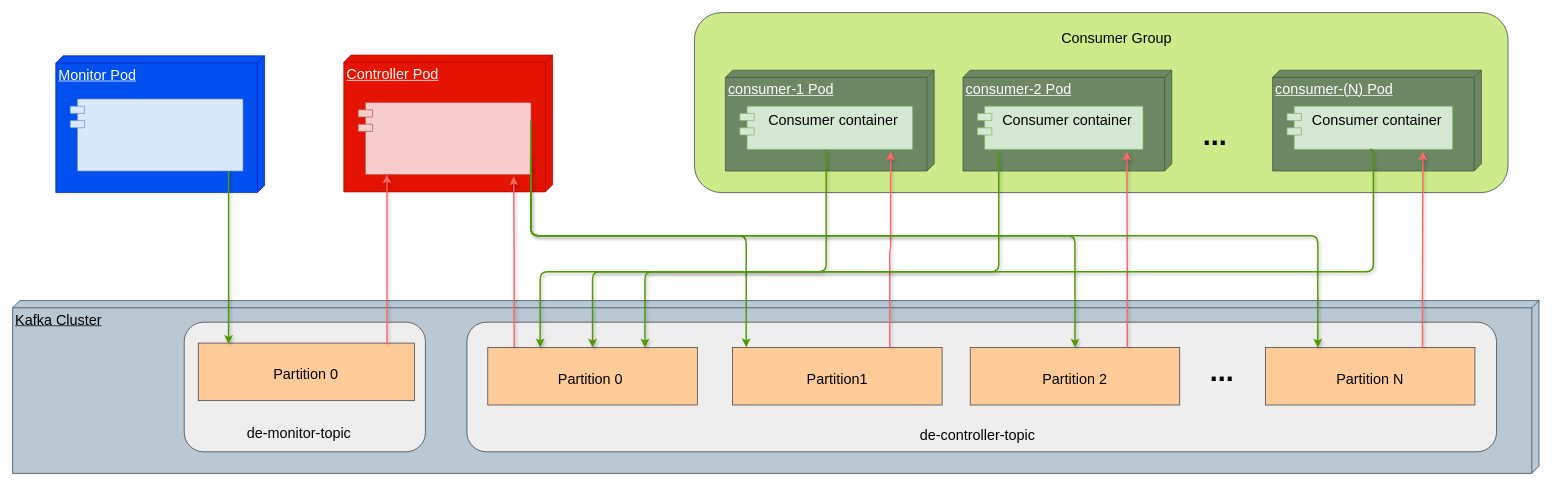
The diagram is 1552 pixels wide and 487 high, and some of its shapes have lost their labels. The centre of each missing label's shape, as x and y in pixels:
Controller container: (444,138)
Monitor container: (156,134)
